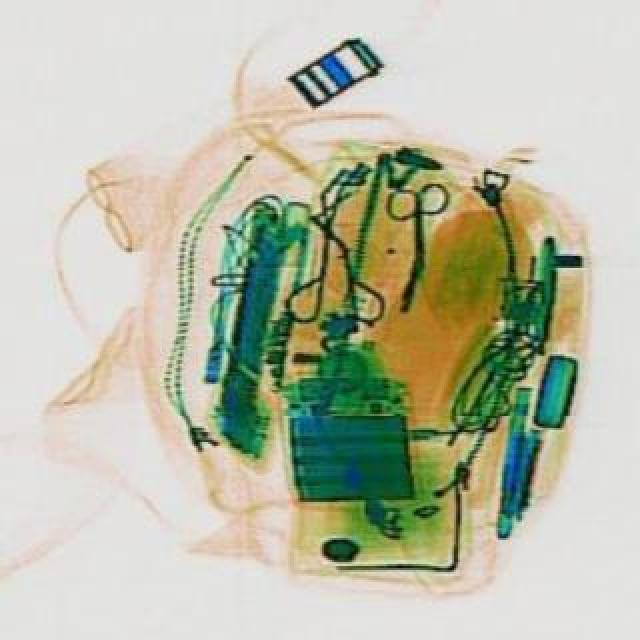pliers: (382, 180, 448, 268)
